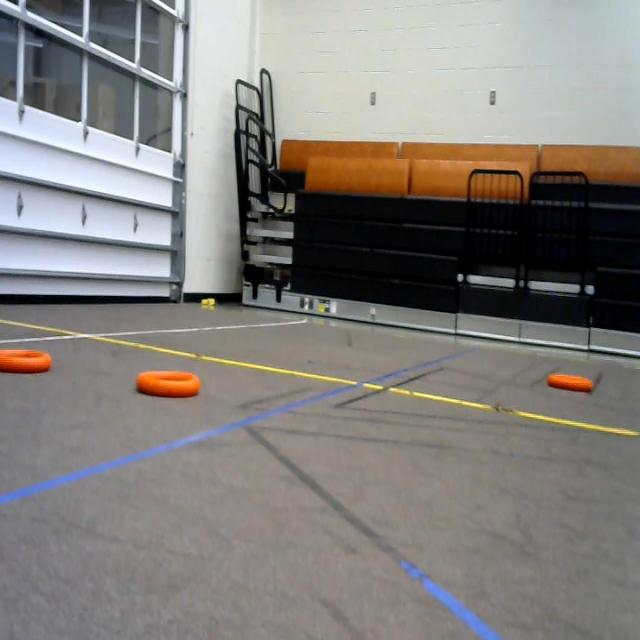note: (133, 356, 218, 404), (0, 342, 59, 388), (542, 367, 601, 400)
